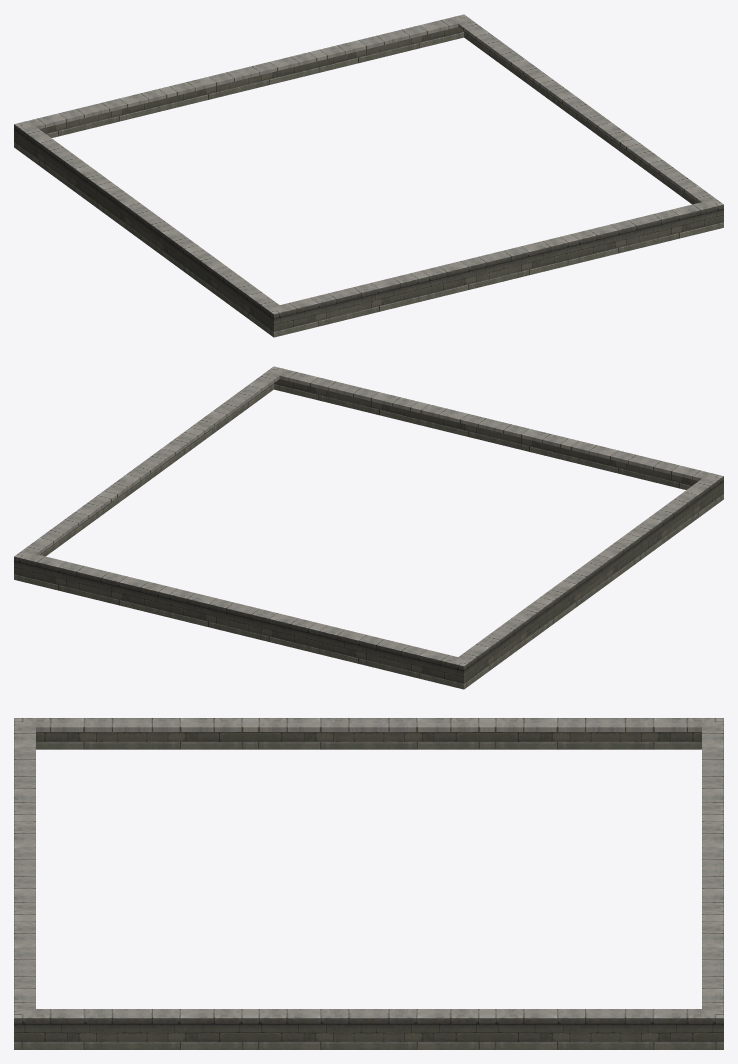
Rendered from Item_3001_wujian002_shibian.FBX.
3 views of the same model, one above another, from view 1: azimuth 30°, elevation 25°; view 2: azimuth 150°, elevation 25°; view 3: azimuth 270°, elevation 25° (orthographic). The views are drawn at different scales.
Parts seen in each view (by area): view 1: Item_3001_wujian002_shibian; view 2: Item_3001_wujian002_shibian; view 3: Item_3001_wujian002_shibian.
Part boxes in pixels (x1,y1,x2,y2): Item_3001_wujian002_shibian: [14, 14, 723, 337]; Item_3001_wujian002_shibian: [14, 366, 723, 689]; Item_3001_wujian002_shibian: [14, 718, 723, 1049].
Size of the model in its own units: 4238 by 209 by 4238.
